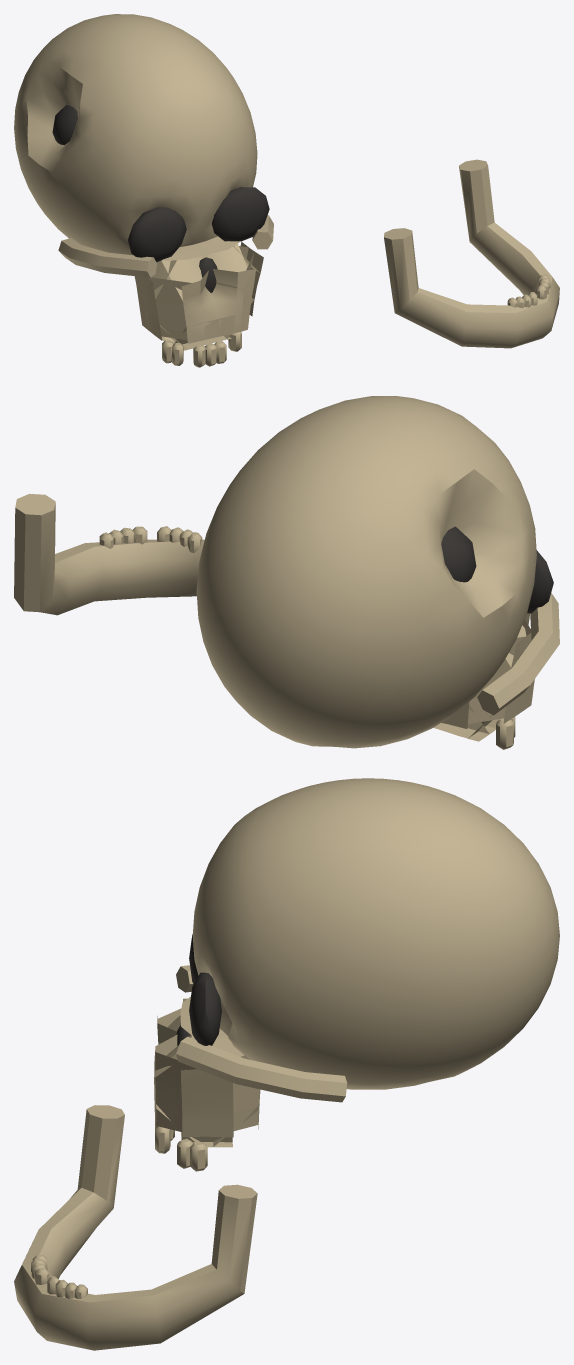
File: schaedel_kaputt.glb
3 views of the same model, one above another, from view 1: azimuth 30°, elevation 25°; view 2: azimuth 150°, elevation 25°; view 3: azimuth 270°, elevation 25° (orthographic). The views are drawn at different scales.
Parts seen in each view (by area): view 1: schaedel_kaputt; view 2: schaedel_kaputt; view 3: schaedel_kaputt.
Part boxes in pixels (x1,y1,x2,y2): schaedel_kaputt: [14, 14, 559, 367]; schaedel_kaputt: [14, 396, 559, 749]; schaedel_kaputt: [14, 778, 559, 1350].
Bounding box in the file's own units: 0.3014 × 0.1994 × 0.265.
